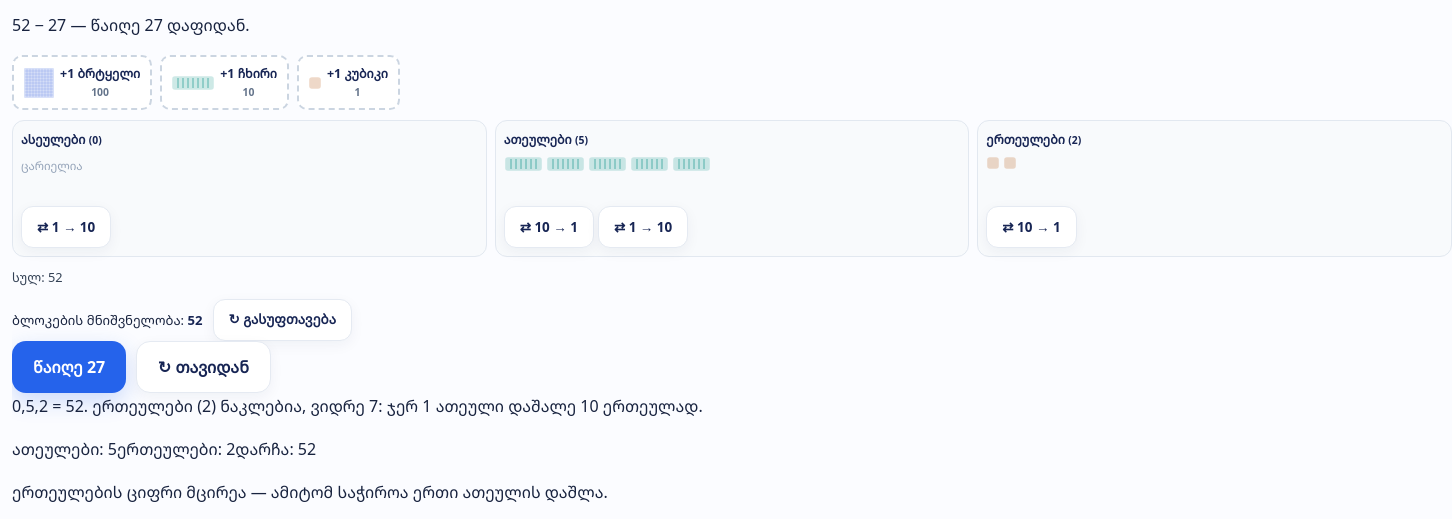
Test case: tools: the subtracting mat › takes the number away once the ten is broken
This screenshot has width=1452, height=519.
Click the button named "1 ათეული დაშალე 10 ერთეულად" at point(643, 227), box x1=598 y1=206 x2=688 y2=248
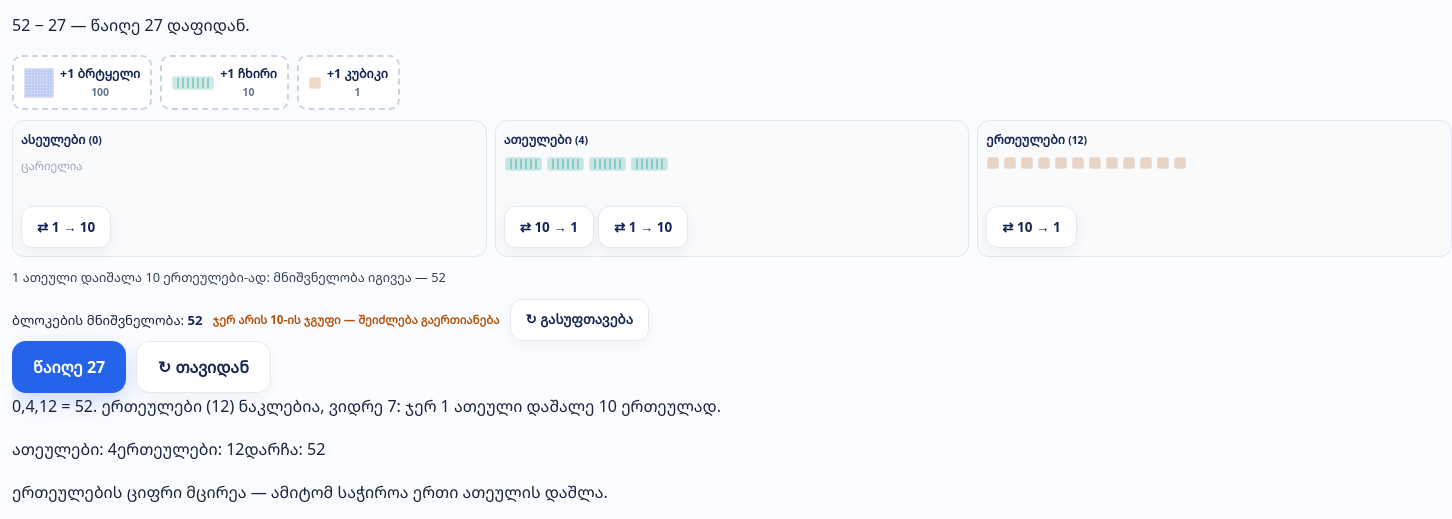
Click the button "წაიღე 27" at point(69, 367), box x1=12 y1=341 x2=126 y2=393
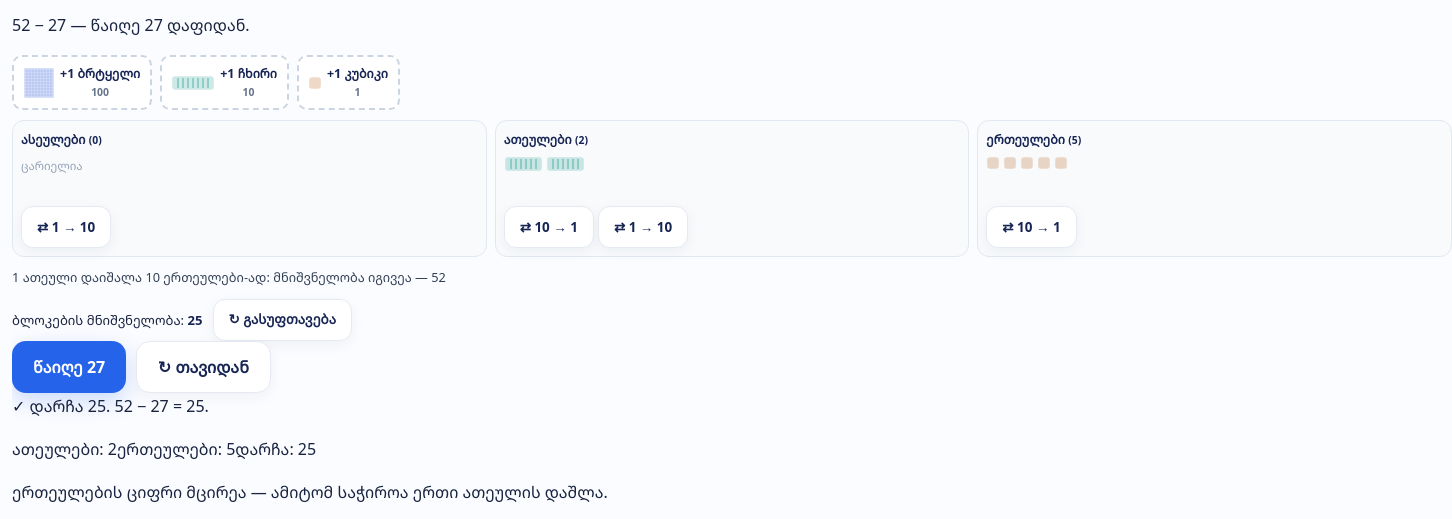
Expected: the message with class "lab-status" shows "25", x1=12 y1=395 x2=209 y2=417
